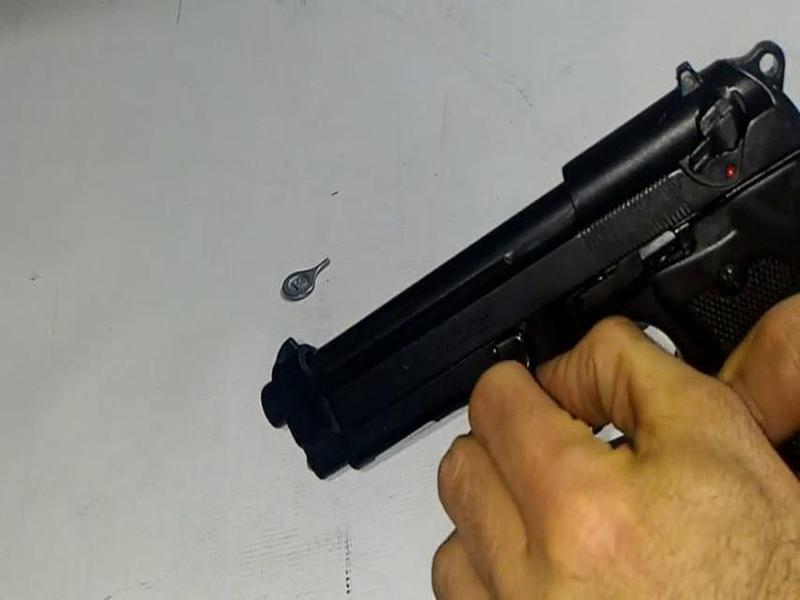Pistola: (244, 40, 800, 402)
